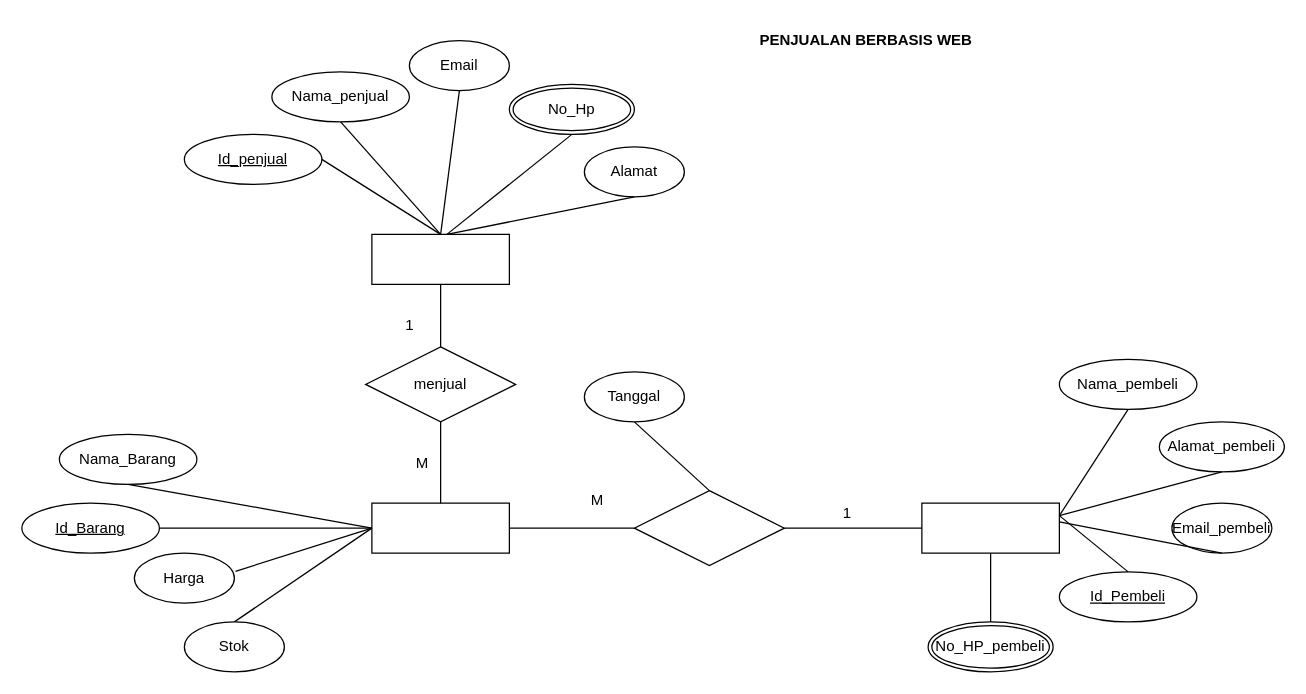
This 1306x694 diagram has some shape labels left out. The centre of each missing label's shape, as x and y in pixels:
"BARANG" goes at point (440, 527).
"beli" goes at point (708, 527).
"PEMBELI" goes at point (990, 527).
"PENJUAL" goes at point (440, 258).
